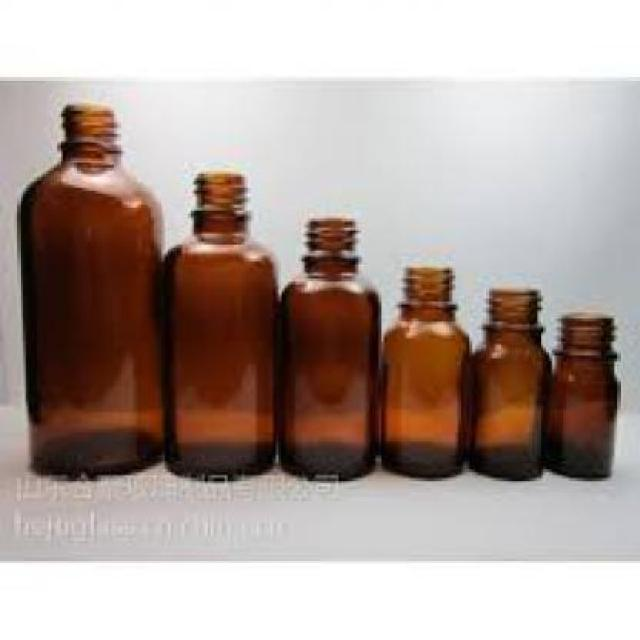kaca: (17, 103, 168, 475), (168, 171, 275, 475), (282, 217, 376, 485), (382, 264, 469, 478), (469, 284, 546, 478), (549, 310, 620, 482)
